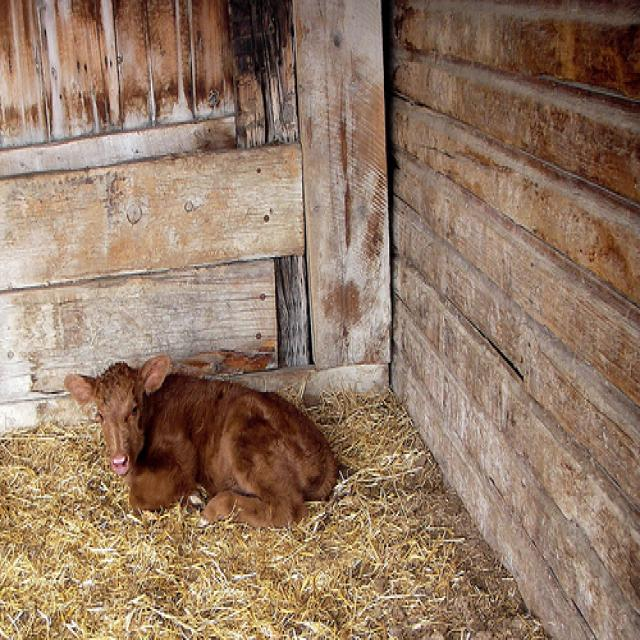cow: (64, 351, 342, 534)
